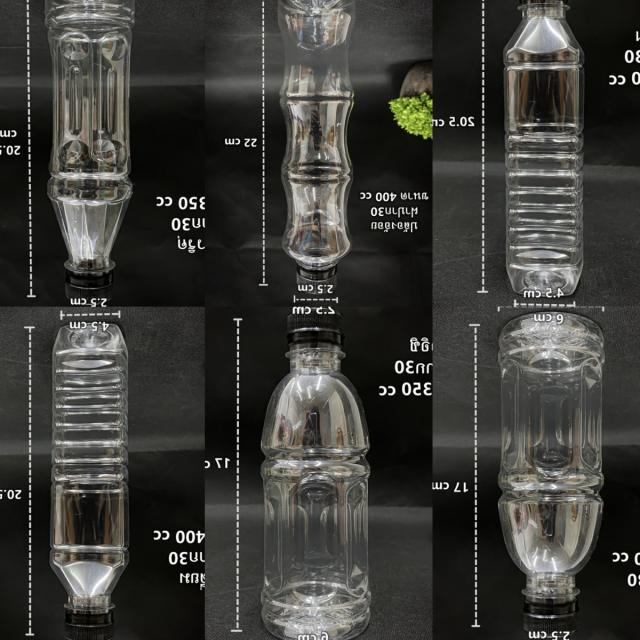plastik: (261, 312, 371, 640), (499, 312, 604, 632), (45, 0, 135, 306), (50, 323, 129, 640), (50, 325, 129, 640), (504, 0, 584, 297), (277, 0, 355, 293)
